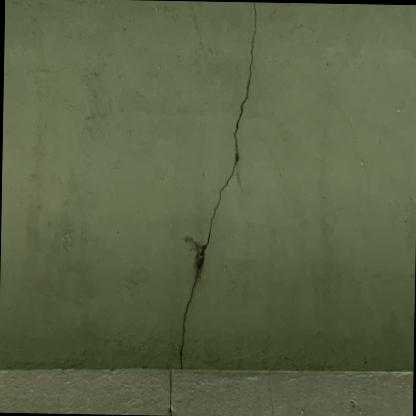crack: (178, 1, 255, 368), (168, 370, 172, 415)
